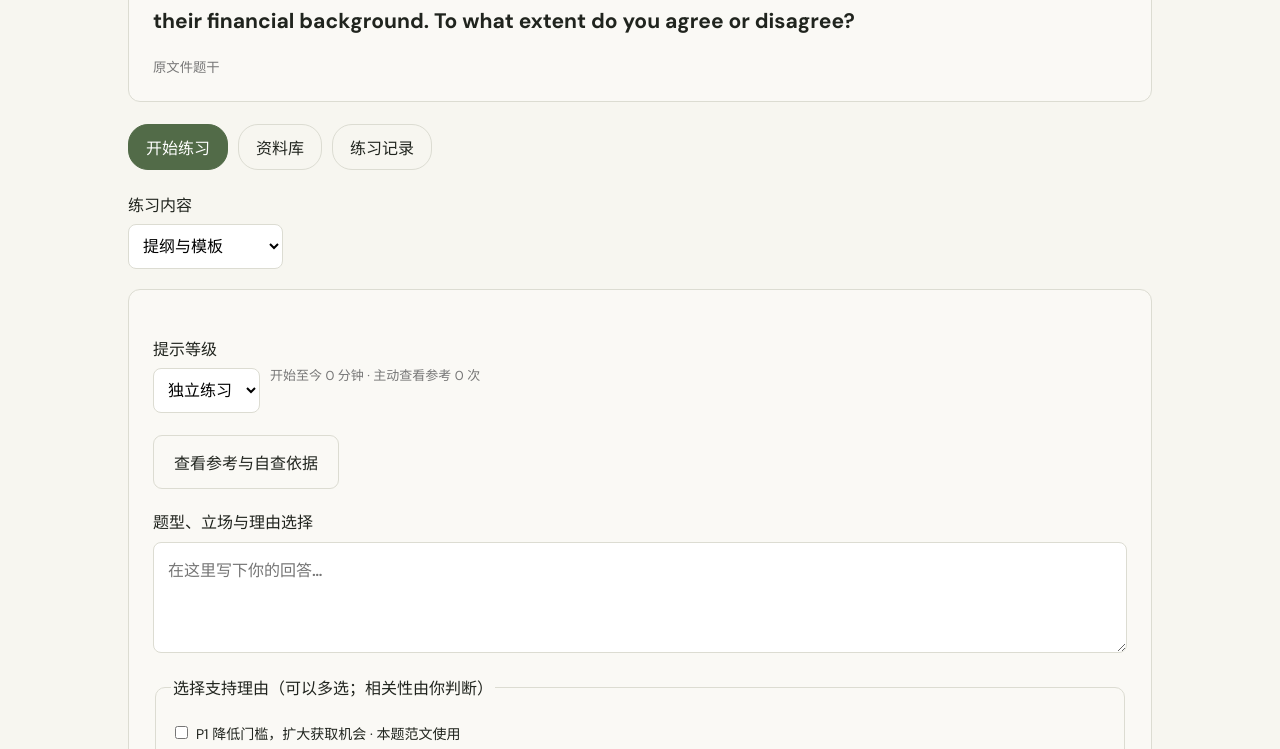
Test case: reference visibility controls › supports manual reveal and hiding in recall mode
(page scrolled)
Select "少提示" in the dropdown labelled "提示等级" at [206, 390], box [153,368,260,412]
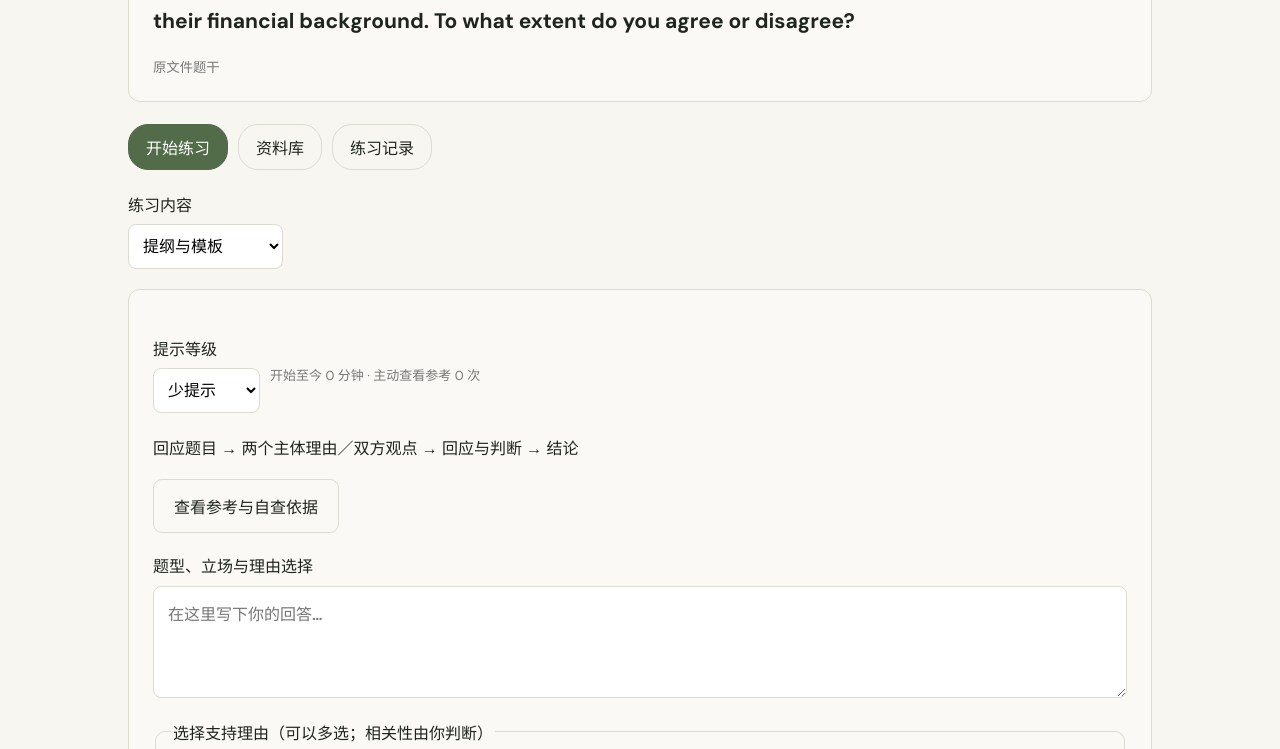
Click the button "查看参考与自查依据".
click(246, 506)  # box [153,479,339,533]
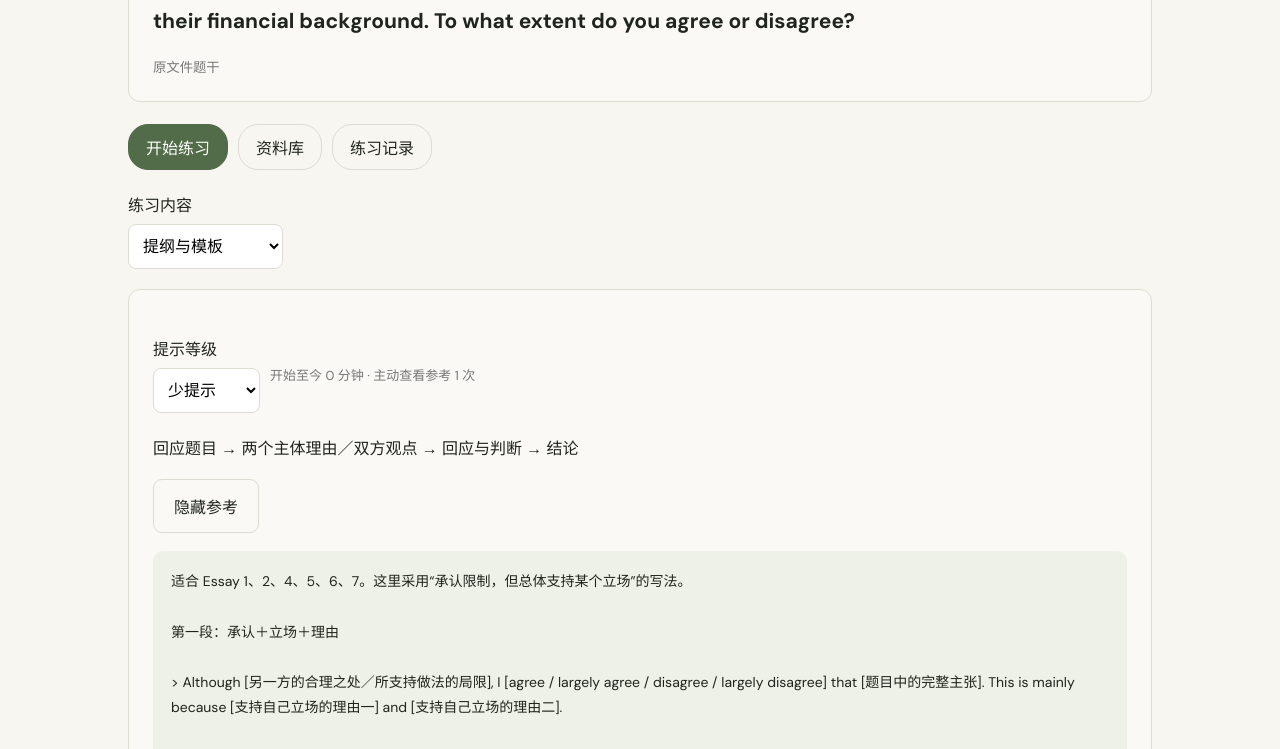
Click the button "隐藏参考".
click(206, 506)  # box [153,479,259,533]
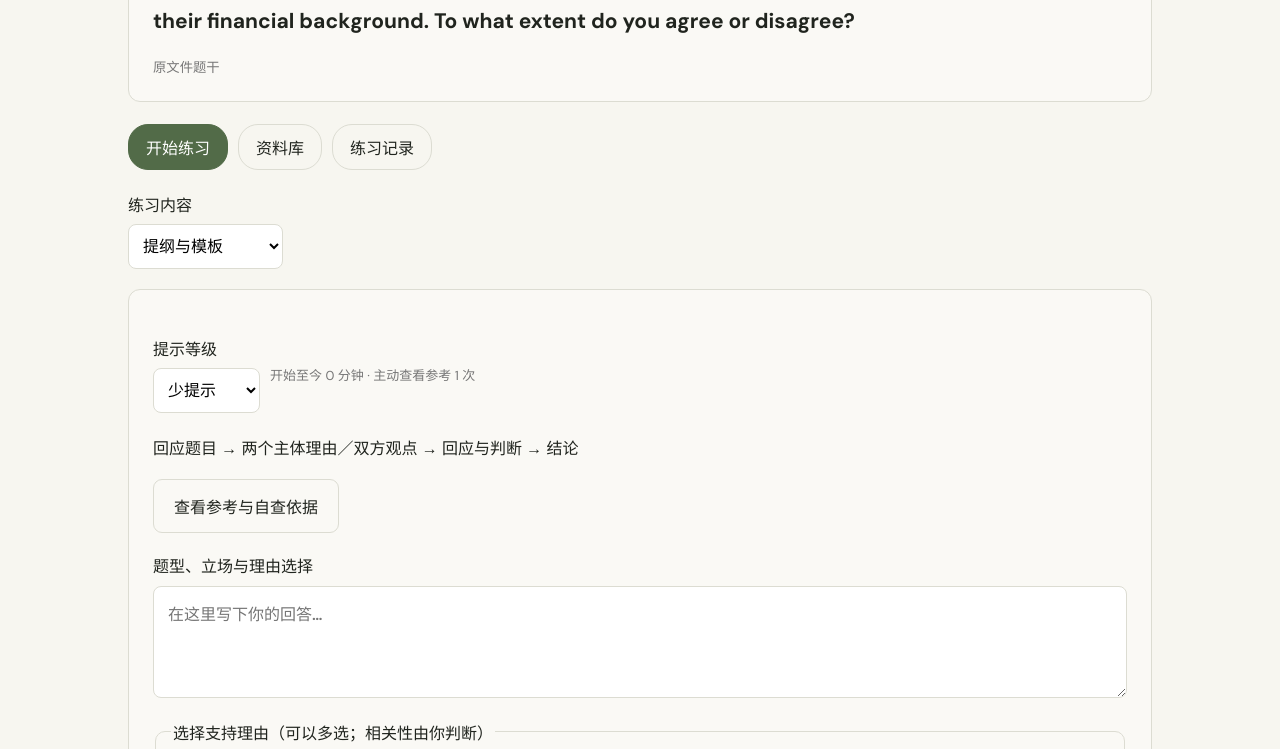
Select "有提示" in the dropdown labelled "提示等级" at [206, 390], box [153,368,260,412]
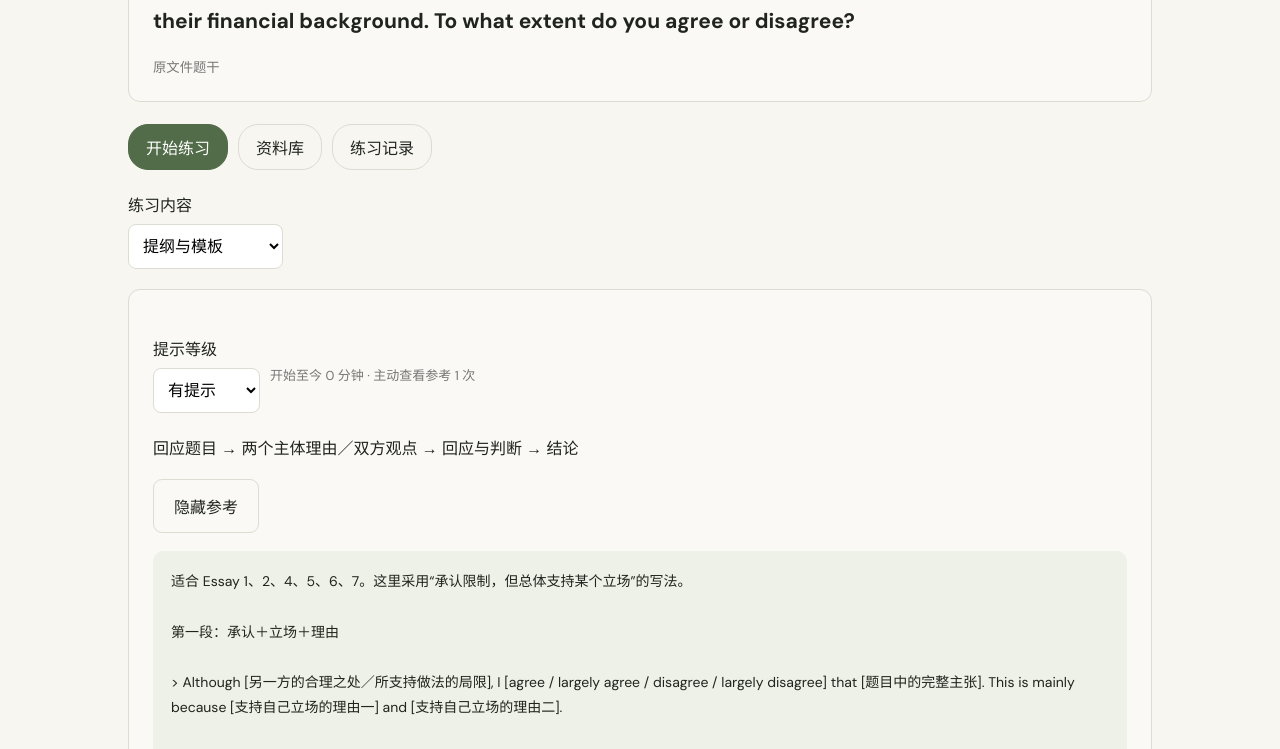
Result: the button "隐藏参考" is expanded at [153,479,259,533]
